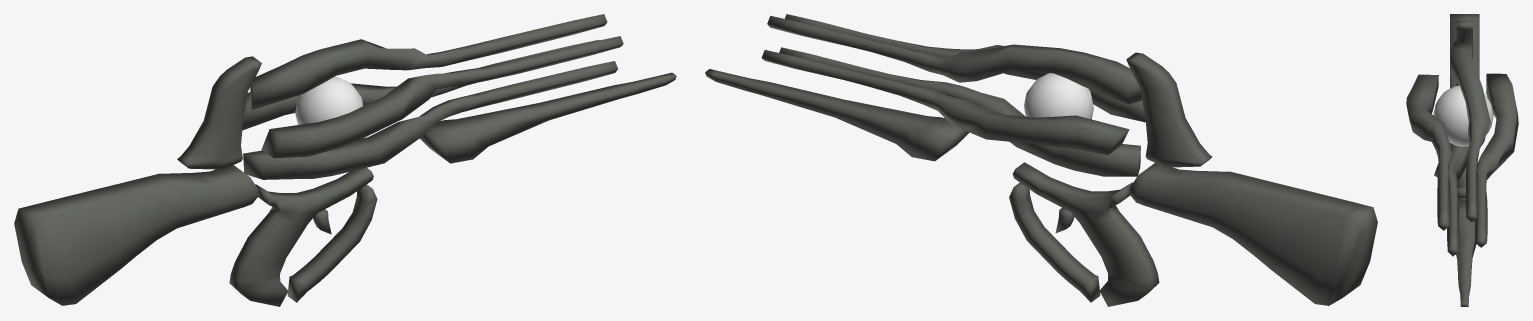
The model's file is BlackHoleGunv5_ M.fbx.
3 renders of one model, left to right at view 1: azimuth 30°, elevation 25°; view 2: azimuth 150°, elevation 25°; view 3: azimuth 270°, elevation 25°, orthographic. The views are drawn at different scales.
Visible parts, largest first — view 1: BHG_MESH; view 2: BHG_MESH; view 3: BHG_MESH.
Boxes of the visible parts, box(x1,y1,x2,y2) form: BHG_MESH: box(14, 14, 676, 306); BHG_MESH: box(705, 14, 1377, 306); BHG_MESH: box(1406, 14, 1518, 306).
Bounding box in the file's own units: 120 × 43.75 × 20.55.
Materials: 2 (1 with a texture image).
